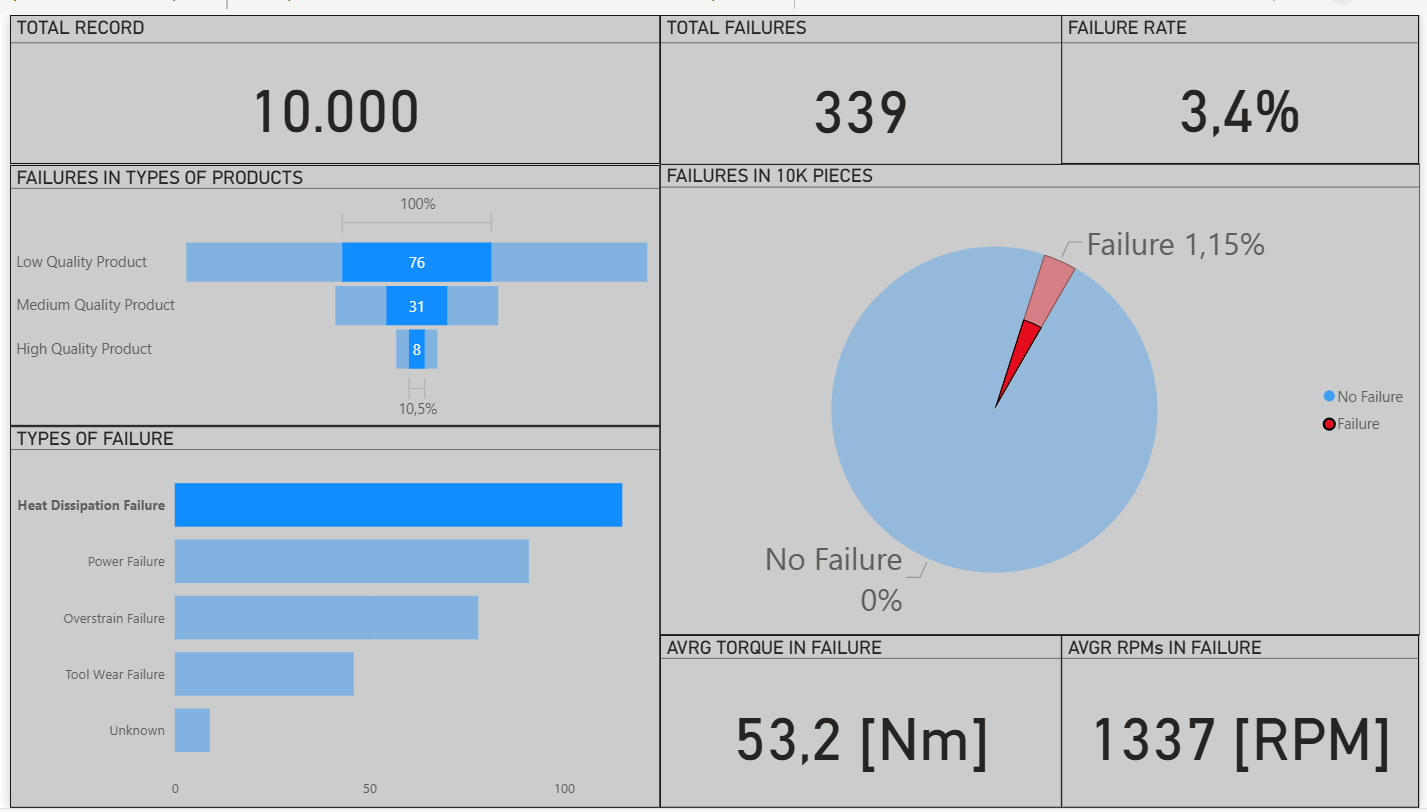

This screenshot's page, from the dashboard's own definition file:
{"tool":"powerbi","page":{"name":"Página 1","canvas":[1280,720],"ordinal":0},"visuals":[{"type":"pieChart","title":"FAILURES IN 10K PIECES","fields":{"Category":["maintenance predictive_maintenance.failure_flag"],"Y":["CountNonNull(maintenance predictive_maintenance.failure_flag)"]},"box":[590,135,690,428.3],"z":0},{"type":"barChart","title":"TYPES OF FAILURE","fields":{"Category":["maintenance predictive_maintenance.failure_label"],"Y":["CountNonNull(maintenance predictive_maintenance.failure_label)"]},"box":[0,373.3,590,346.7],"z":1000},{"type":"funnel","title":"FAILURES IN TYPES OF PRODUCTS","fields":{"Category":["ref_product_type.description"],"Y":["maintenance predictive_maintenance.Total Failures"]},"box":[0,135.7,590,237.1],"z":2000},{"type":"card","title":"TOTAL RECORD","fields":{"Values":["maintenance predictive_maintenance.Total Records"]},"box":[0,0,590,135],"z":3000},{"type":"card","title":"TOTAL FAILURES","fields":{"Values":["maintenance predictive_maintenance.Total Failures"]},"box":[590,0,365.7,135.7],"z":4000},{"type":"card","title":"FAILURE RATE","fields":{"Values":["maintenance predictive_maintenance.Failure Rate %"]},"box":[955,0,325,135],"z":5000},{"type":"card","title":"AVRG TORQUE IN FAILURE","fields":{"Values":["maintenance predictive_maintenance.Avg Torque on Failure"]},"box":[590,563.3,365,156.7],"z":6000},{"type":"card","title":"AVGR RPMs IN FAILURE","fields":{"Values":["maintenance predictive_maintenance.Avg RPMs on Failure"]},"box":[955,563.3,325,156.7],"z":7000}]}

Visuals, with their boxes in screenshot pixels (x1, y1, x2, y2), scaled from the page's 1280x720 canvas onto the 1427x812 screenshot:
"FAILURES IN 10K PIECES" pieChart: <region>658, 152, 1426, 635</region>
"TYPES OF FAILURE" barChart: <region>0, 421, 658, 811</region>
"FAILURES IN TYPES OF PRODUCTS" funnel: <region>0, 153, 658, 420</region>
"TOTAL RECORD" card: <region>0, 0, 658, 152</region>
"TOTAL FAILURES" card: <region>658, 0, 1065, 153</region>
"FAILURE RATE" card: <region>1065, 0, 1426, 152</region>
"AVRG TORQUE IN FAILURE" card: <region>658, 635, 1065, 811</region>
"AVGR RPMs IN FAILURE" card: <region>1065, 635, 1426, 811</region>
